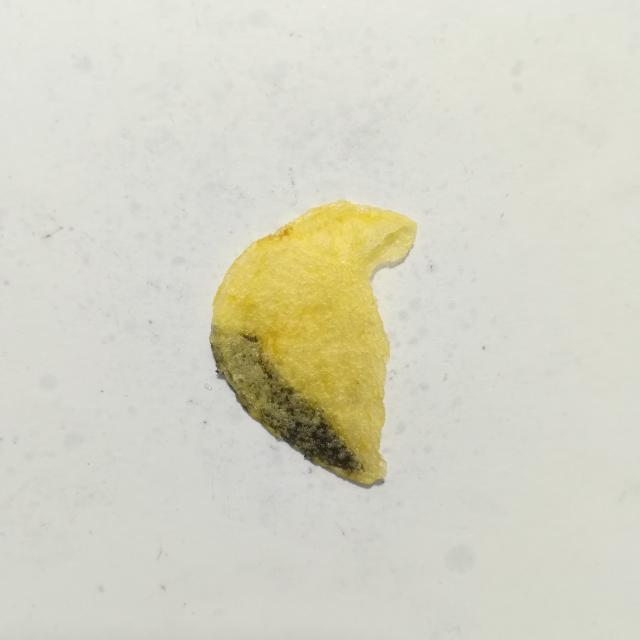chip: (210, 201, 417, 485)
semi-damaged: (210, 325, 361, 472)
